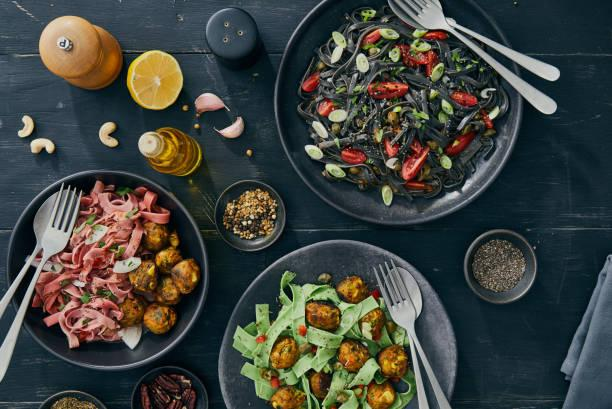Braised Crucian Carp: (276, 2, 523, 225), (9, 169, 209, 367), (218, 239, 452, 408)
